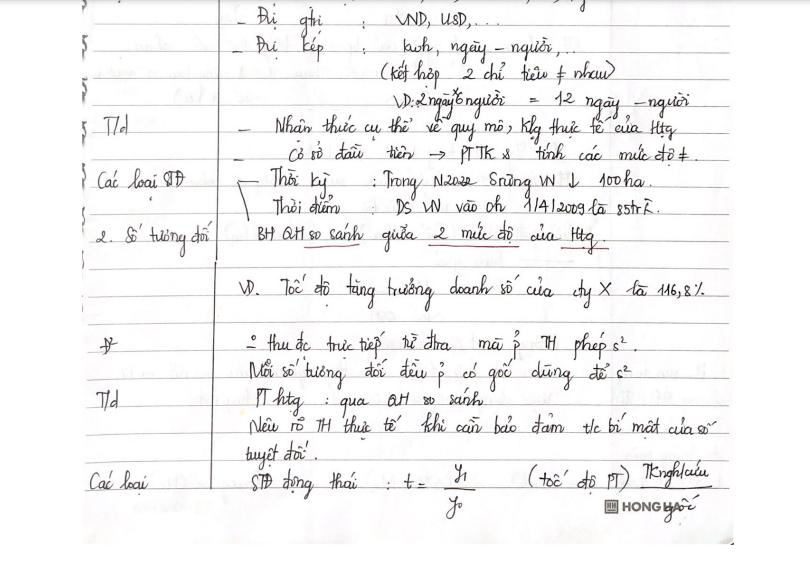text: (235, 272, 709, 314), (247, 411, 721, 442), (245, 357, 635, 394), (256, 220, 609, 259), (244, 327, 630, 362), (272, 114, 680, 143), (392, 84, 692, 122), (286, 141, 699, 166), (379, 168, 653, 203), (379, 56, 618, 91), (253, 386, 484, 417), (522, 460, 712, 494), (393, 196, 662, 219), (401, 34, 578, 66), (92, 217, 213, 260), (402, 460, 478, 521), (249, 469, 359, 501), (96, 168, 187, 205), (232, 32, 325, 64), (238, 4, 325, 37), (392, 8, 505, 32), (243, 439, 318, 472), (269, 165, 333, 199), (269, 192, 342, 219), (87, 468, 151, 497), (661, 492, 701, 525), (622, 500, 682, 517), (102, 110, 131, 139), (96, 386, 121, 416), (96, 335, 120, 356)
